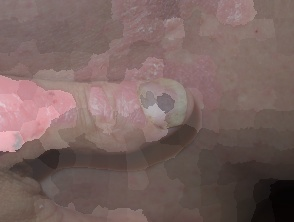Nail_psoriasis: (106, 62, 199, 144)
